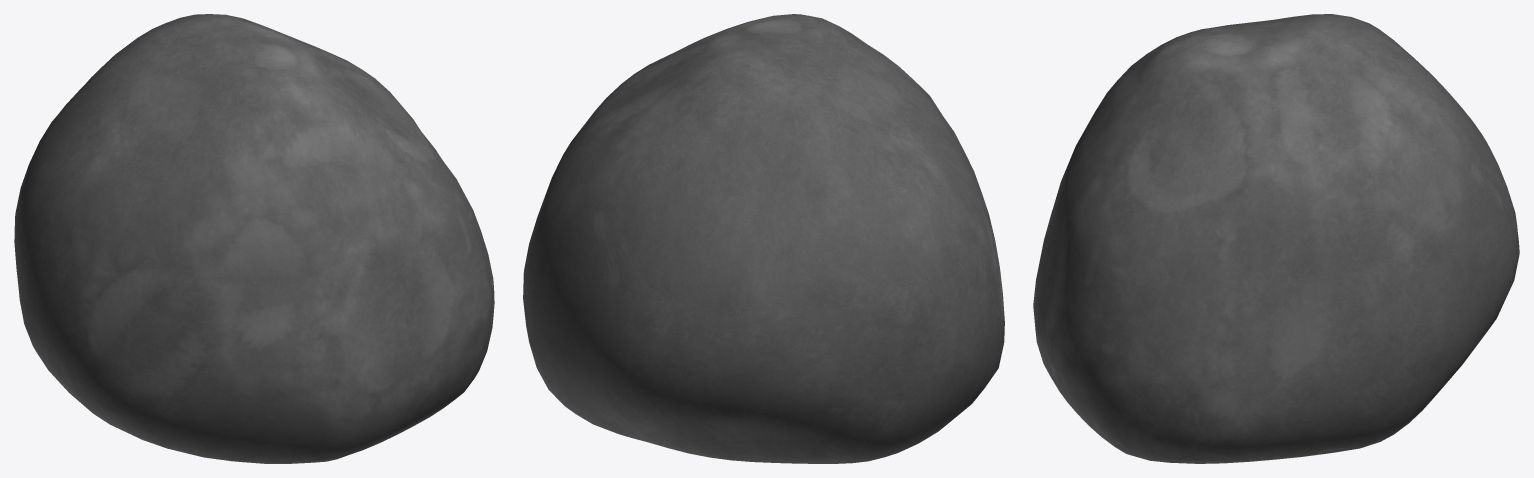
File: piedra.glb
The picture shows the model from 3 angles, left to right: view 1: azimuth 30°, elevation 25°; view 2: azimuth 150°, elevation 25°; view 3: azimuth 270°, elevation 25°; orthographic projection. The views are drawn at different scales.
Visible parts, largest first — view 1: polySurface1; view 2: polySurface1; view 3: polySurface1.
Boxes of the visible parts, box(x1,y1,x2,y2) form: polySurface1: box(14, 14, 494, 463); polySurface1: box(523, 14, 1004, 463); polySurface1: box(1033, 14, 1519, 463).
Size of the model in its own units: 1.61 by 1.39 by 1.63.
Materials: 1 (1 with a texture image).
